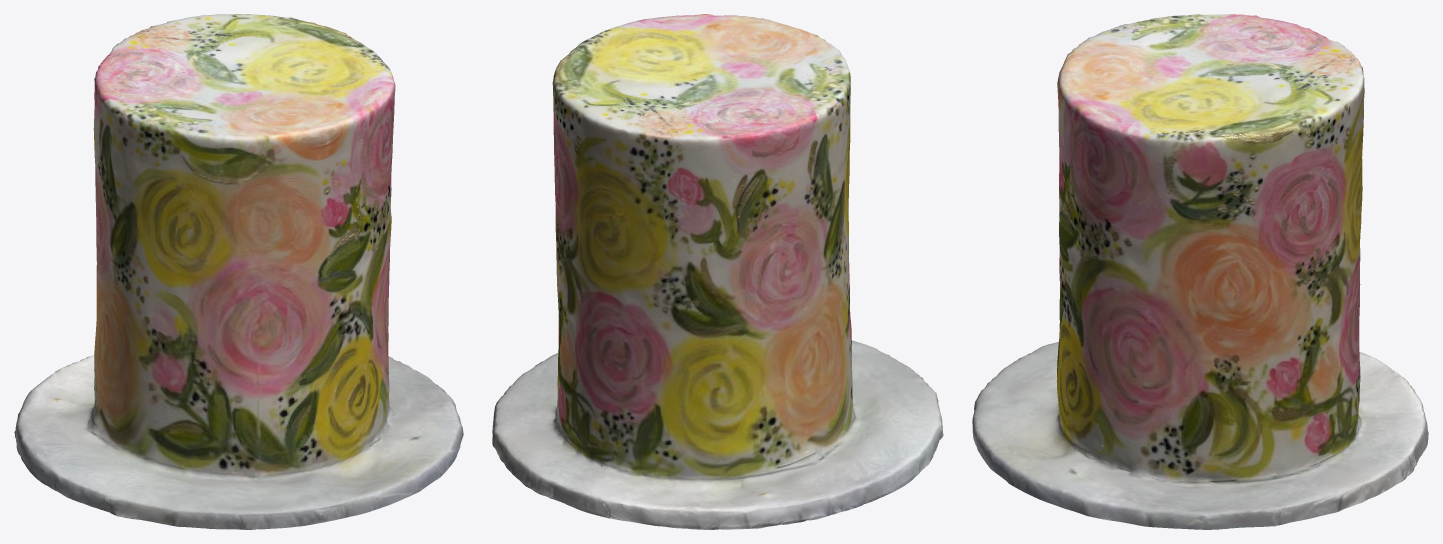
The model's file is flower-flat-25-aero.glb.
3 views of the same model, side by side, from view 1: azimuth 30°, elevation 25°; view 2: azimuth 150°, elevation 25°; view 3: azimuth 270°, elevation 25° (orthographic).
Visible parts, largest first — view 1: mesh%2E001; view 2: mesh%2E001; view 3: mesh%2E001.
Boxes of the visible parts, x1,y1,x2,y2 form: mesh%2E001: (14, 14, 463, 529); mesh%2E001: (492, 14, 943, 529); mesh%2E001: (972, 14, 1428, 529).
Bounding box in the file's own units: 0.2566 × 0.2272 × 0.2559.
18 materials, 18 textured.
